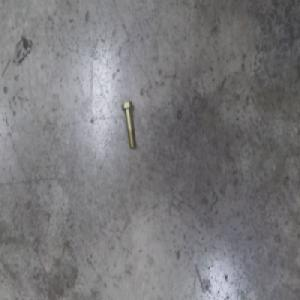Bolt: (121, 98, 135, 147)
